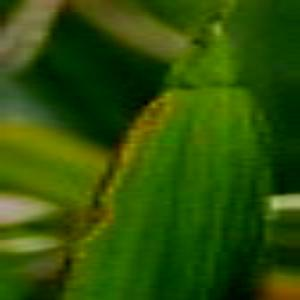2 BacterialBlight: (43, 8, 238, 284)
